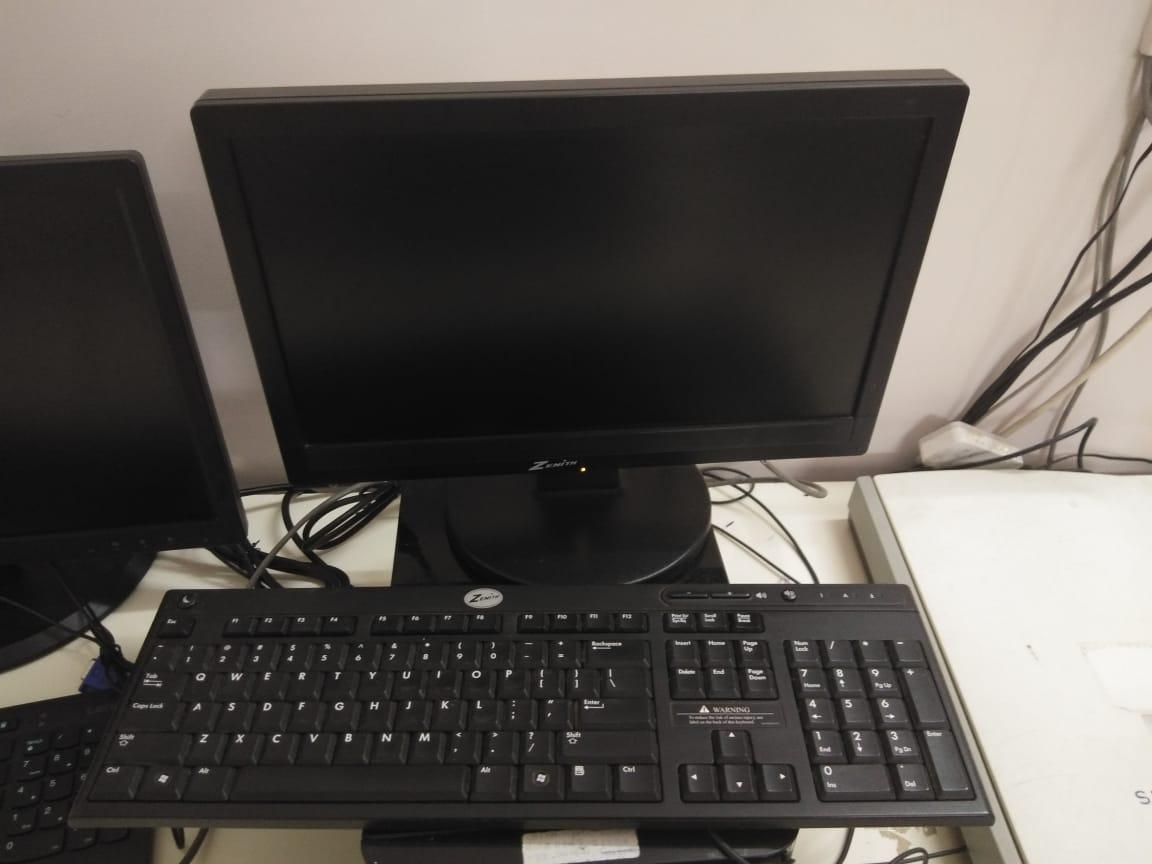keyboard: (50, 564, 1018, 849)
monitor: (179, 57, 984, 567)
